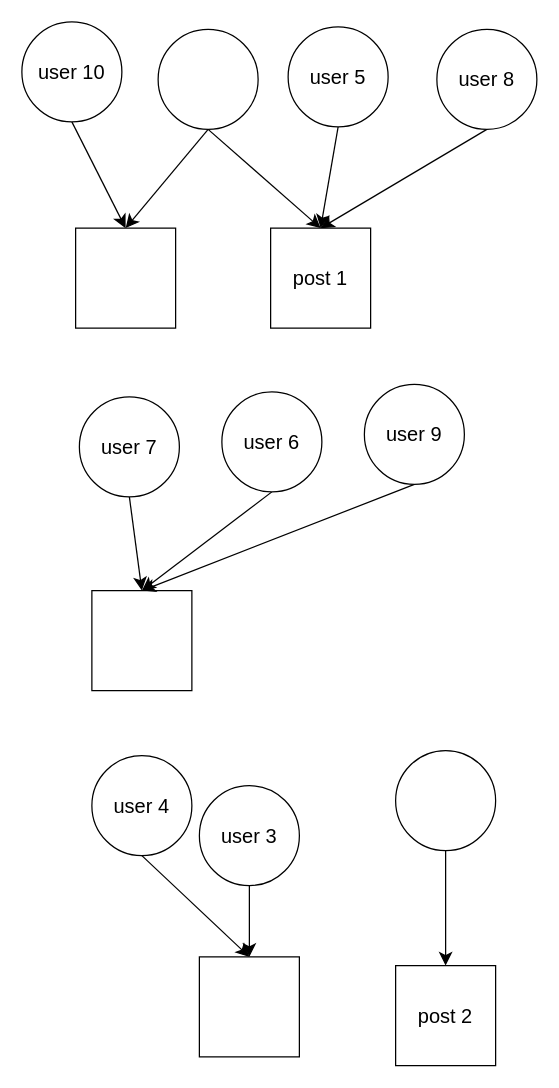
This 559x1088 diagram has some shape labels left out. The shapes that lost their labels are listed below. From the top down, each one's centre as x and y in pixels, then its label:
At (x=207, y=78): "user 1".
At (x=125, y=277): "post 9".
At (x=141, y=640): "post 4".
At (x=445, y=800): "user 2".
At (x=248, y=1006): "post 3".
